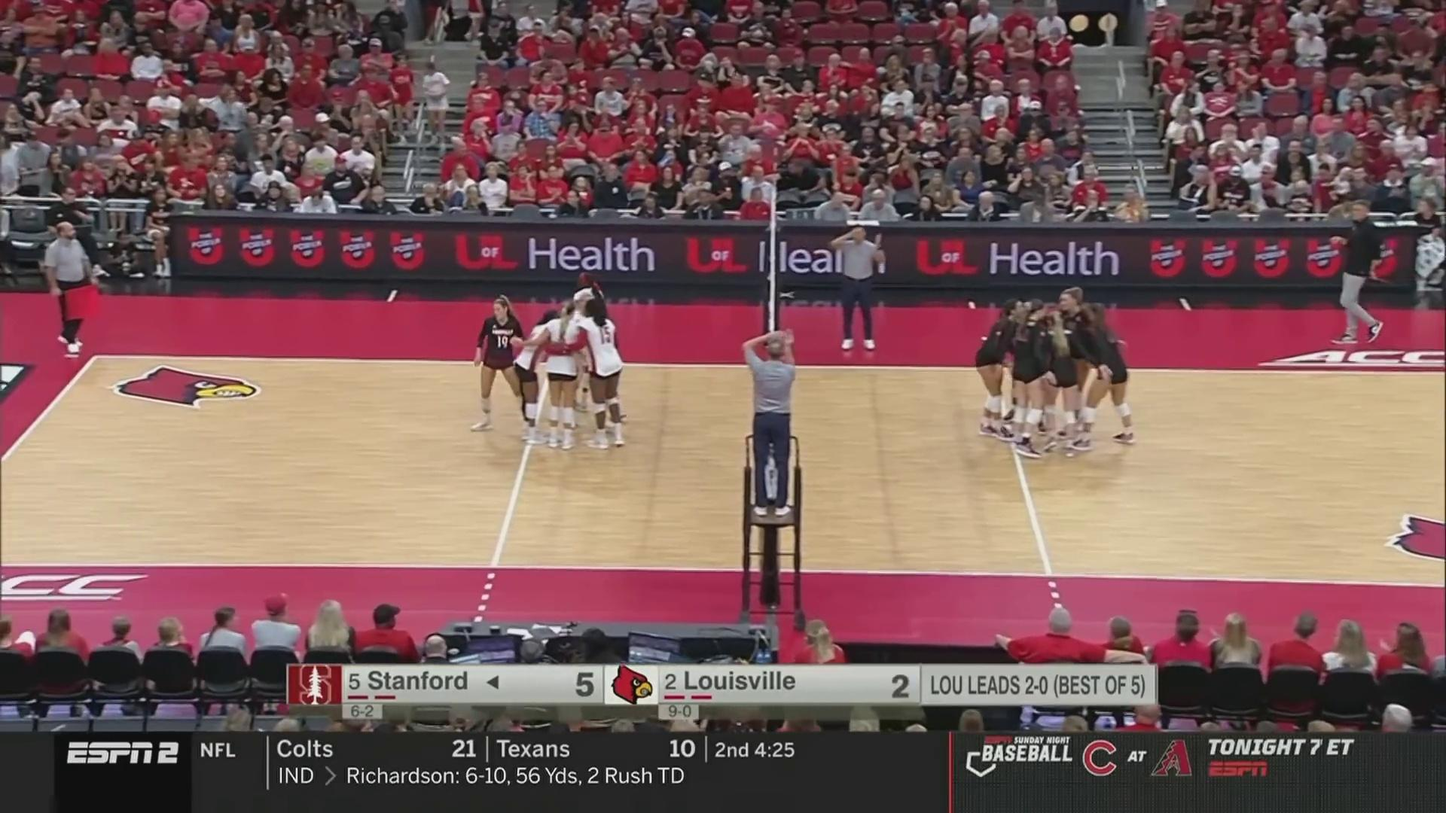player: (567, 298, 624, 448), (1039, 312, 1097, 455), (1081, 312, 1138, 445), (475, 297, 532, 430), (532, 306, 582, 446), (511, 304, 560, 446), (977, 300, 1021, 441), (568, 270, 609, 410), (1054, 285, 1092, 431), (1012, 301, 1045, 459)
refree: (741, 328, 800, 513), (44, 222, 99, 355), (831, 225, 886, 349)
